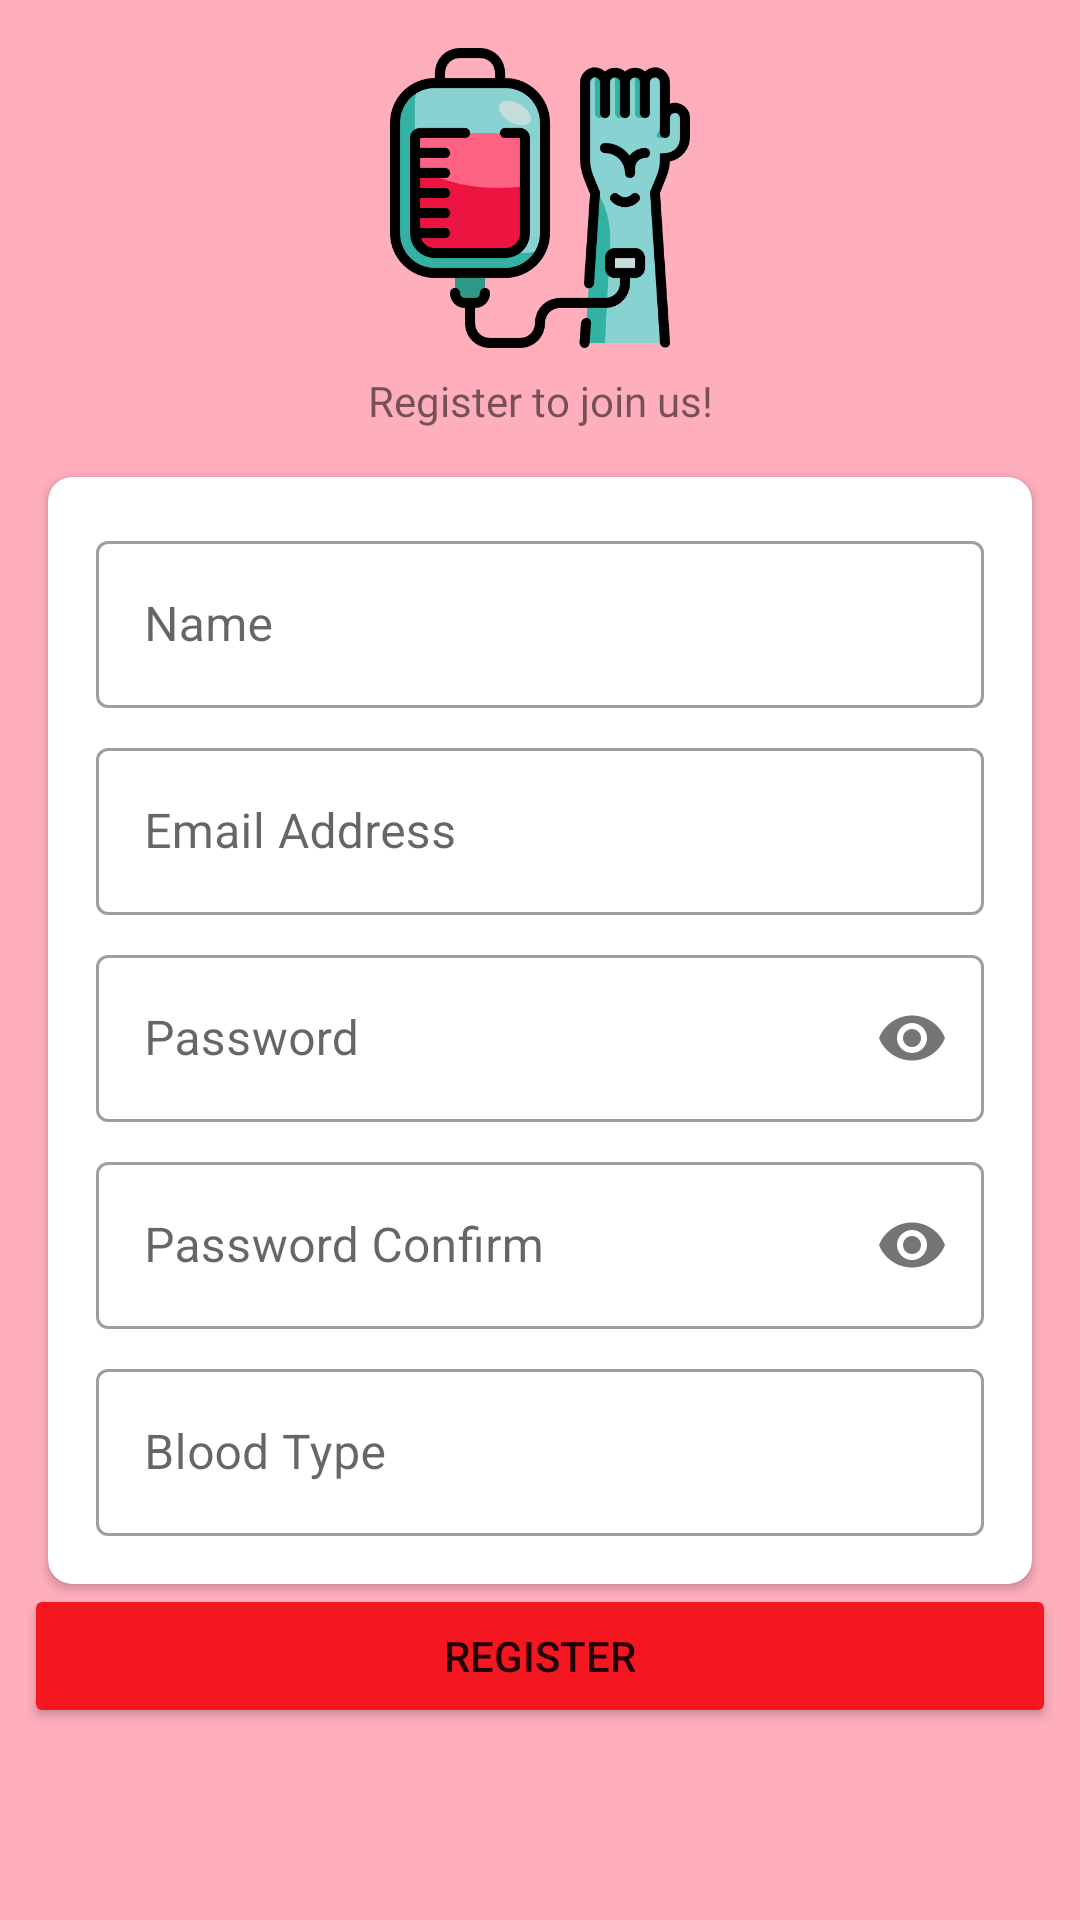

Screen size 1080 x 1920. Icon name, then its center in pixels as (x,y):
blood transfusion: (540,198)
